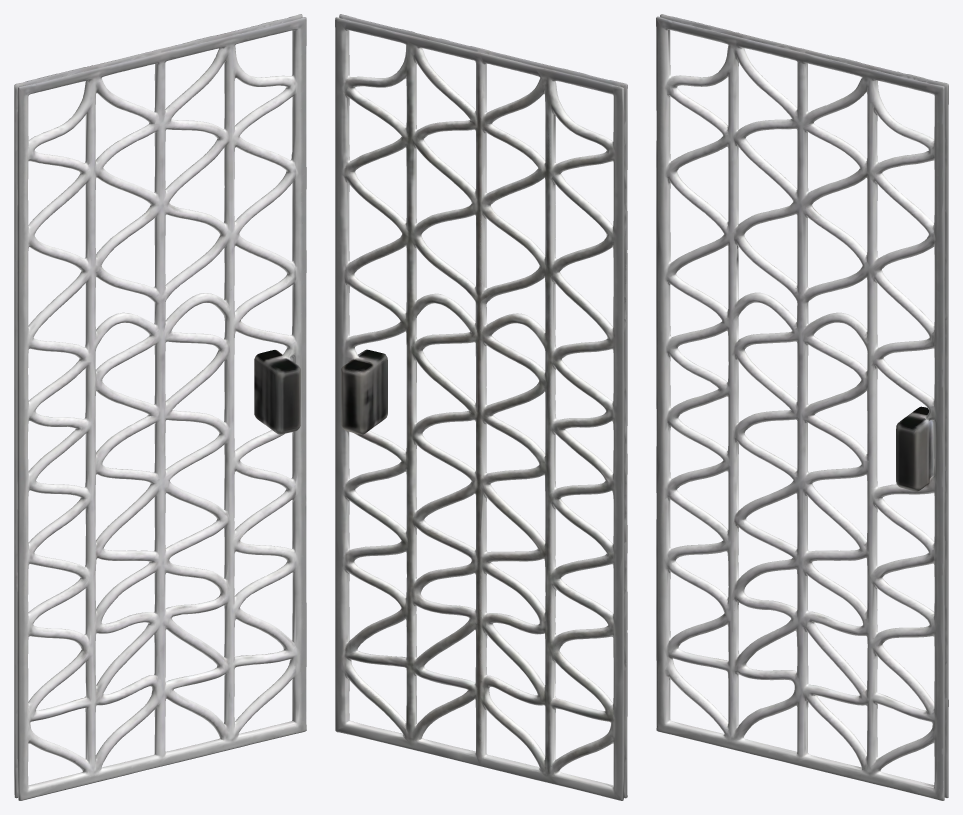
The model's file is geometric-metal-screen.glb.
The picture shows the model from 3 angles, left to right: view 1: azimuth 30°, elevation 25°; view 2: azimuth 150°, elevation 25°; view 3: azimuth 330°, elevation 25°; orthographic projection.
Parts seen in each view (by area): view 1: world; view 2: world; view 3: world.
Part boxes in pixels (x1,y1,x2,y2): world: (14, 14, 306, 800); world: (335, 14, 627, 800); world: (656, 14, 948, 800).
Size of the model in its own units: 0.4231 by 1 by 0.0666.
Materials: 1 (1 with a texture image).
